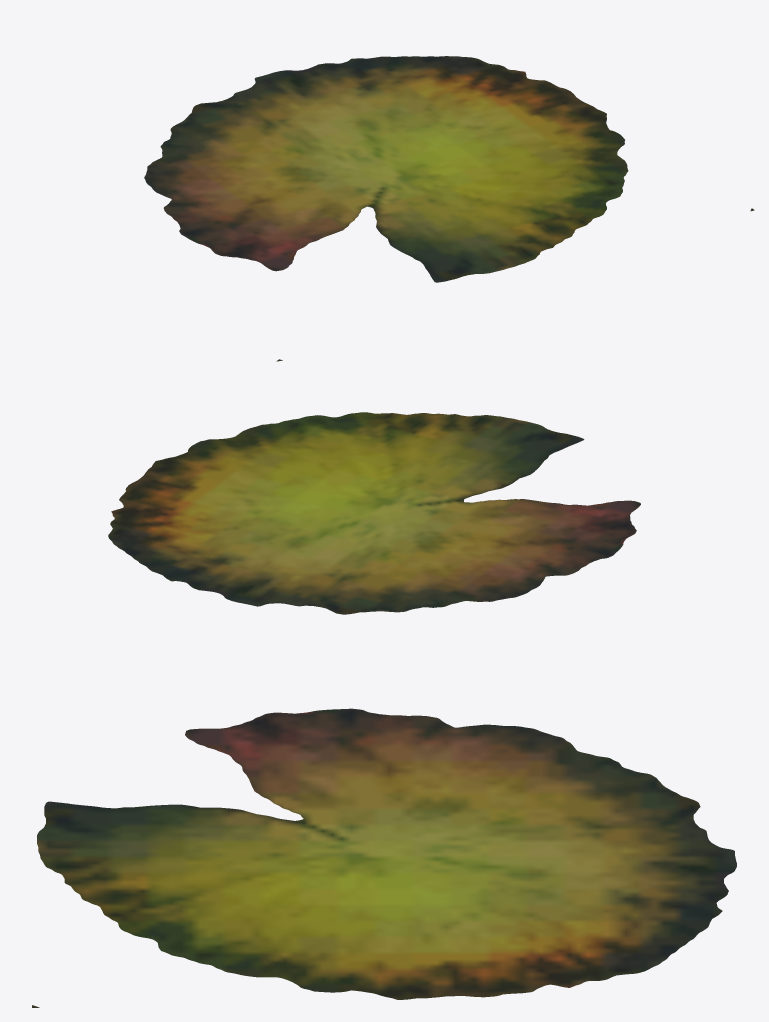
The model's file is frst_fltg_lillypad_a1_l2.fbx.
3 renders of one model, top to bottom at view 1: azimuth 30°, elevation 25°; view 2: azimuth 150°, elevation 25°; view 3: azimuth 270°, elevation 25°, orthographic. The views are drawn at different scales.
Parts seen in each view (by area): view 1: mesh_node; view 2: mesh_node; view 3: mesh_node.
Boxes of the visible parts, left/top/right/bottom form: mesh_node: left=144, top=56, right=754, bottom=282; mesh_node: left=108, top=359, right=640, bottom=614; mesh_node: left=32, top=708, right=736, bottom=1007.
Bounding box in the file's own units: 0.6075 × 1.36e-16 × 0.6118.
1 material, 1 textured.
